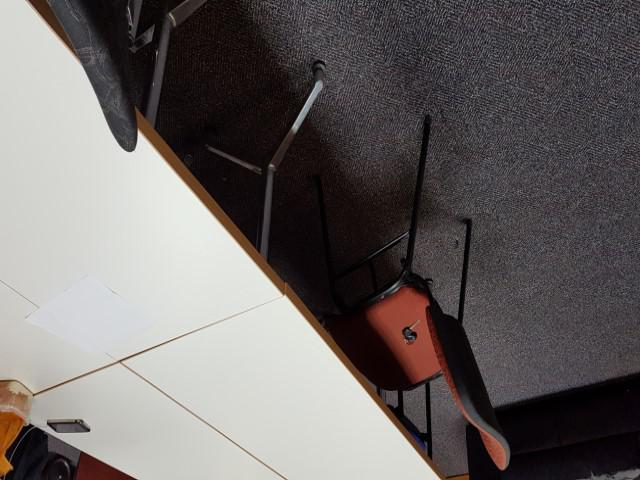key: (400, 318, 421, 337)
